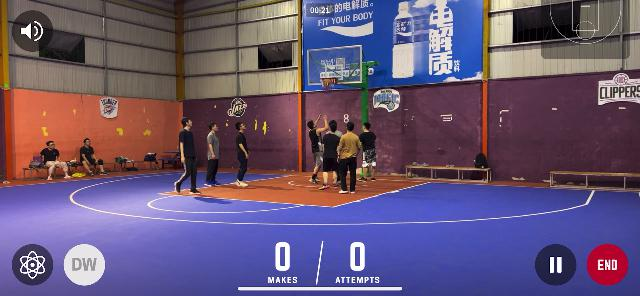basket: (319, 76, 335, 90)
goal: (322, 78, 332, 86)
